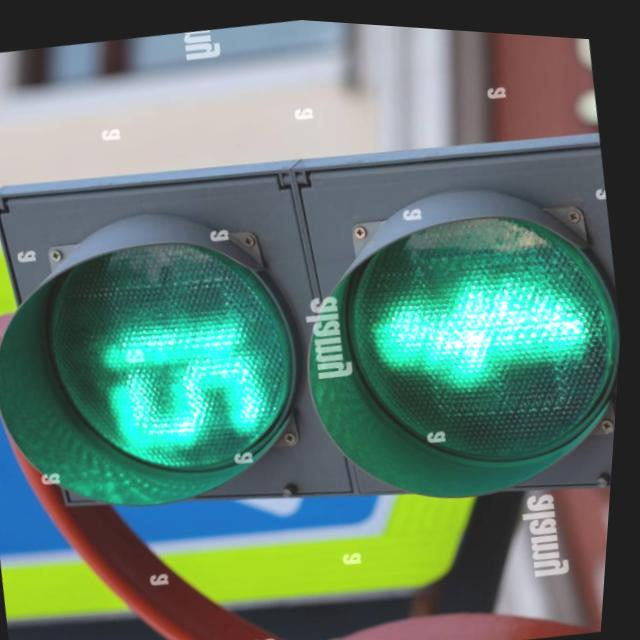green_light: (367, 242, 598, 403)
